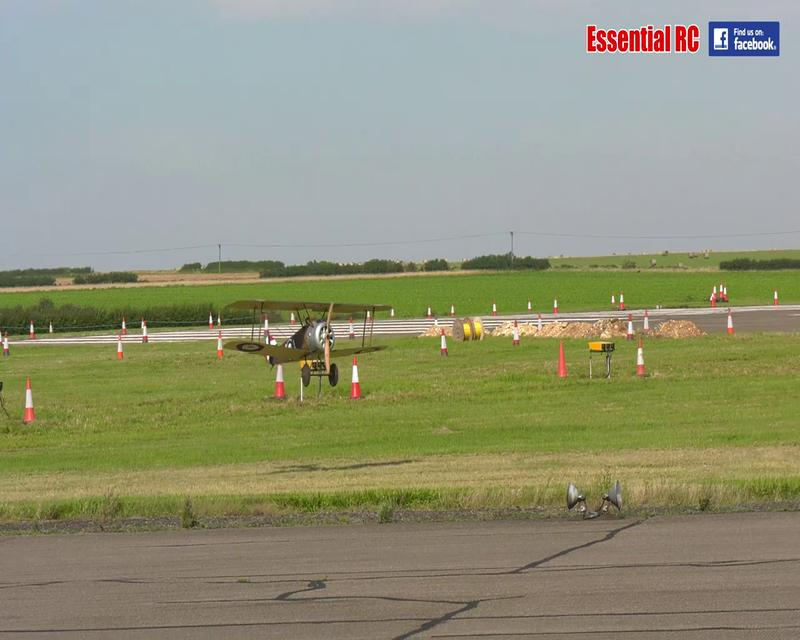UAV: (215, 299, 394, 388), (585, 22, 700, 53)
